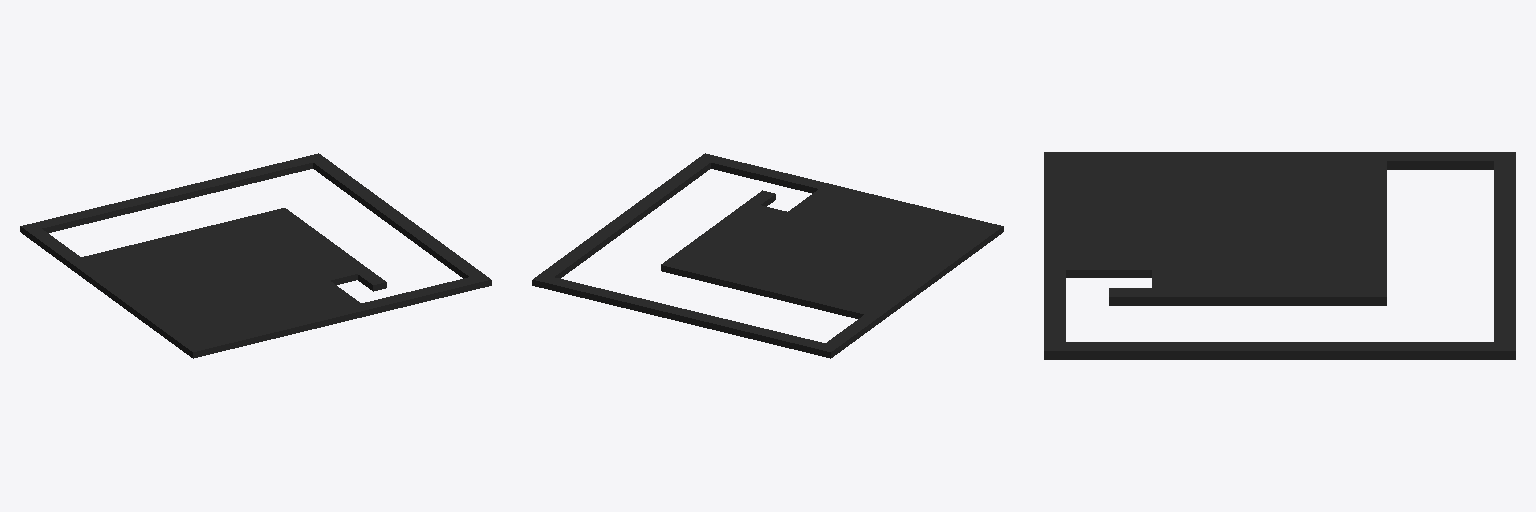
The robot description file, URDF, robot "Room3":
<robot name="Room3">
    <link name="_name">
        <visual> 
            <origin rpy="0.0 0.0 0.0" xyz="-0.41067833160379713 -0.4268825657898675 -0.010000000000000002" />
                <geometry>
                    <mesh filename="Room3/Room3.obj" scale="1 1 0.1" />
                </geometry>

            <material name="black">
                <color rgba="0.2 0.2 0.2 0.95" />
            </material>
        </visual>

       <collision concave="yes" name="collision_0">
            <origin rpy="0.0 0.0 0.0" xyz="-0.41067833160379713 -0.4268825657898675 -0.010000000000000002" />
            <geometry>
                <mesh filename="Room3/Room3_vhacd.obj" scale="1 1 0.1" />
            </geometry>
        </collision>

        <inertial> 
            <mass value="0" />
            <inertia ixx="0" ixy="0" ixz="0" iyy="0" iyz="0" izz="0" />
        </inertial> 
    </link>
</robot>

--- Render facts (derived) ---
Views: 3 orthographic renders of the robot side by side, from view 1: azimuth 30°, elevation 25°; view 2: azimuth 150°, elevation 25°; view 3: azimuth 270°, elevation 25°.
Model Room3 with 1 links and 0 joints (none), rooted at _name, posed all joints at 0.
Visible links, largest first — view 1: _name; view 2: _name; view 3: _name.
Boxes of the visible links, x1=… form: _name: x1=20, y1=153, x2=491, y2=358; _name: x1=532, y1=153, x2=1003, y2=358; _name: x1=1044, y1=152, x2=1515, y2=359.
Bounding box of the posed robot: 1 × 1 × 0.02 m (x, y, z).
Meshes: 1 distinct files referenced, 1 mesh visuals loaded (1 OBJ).